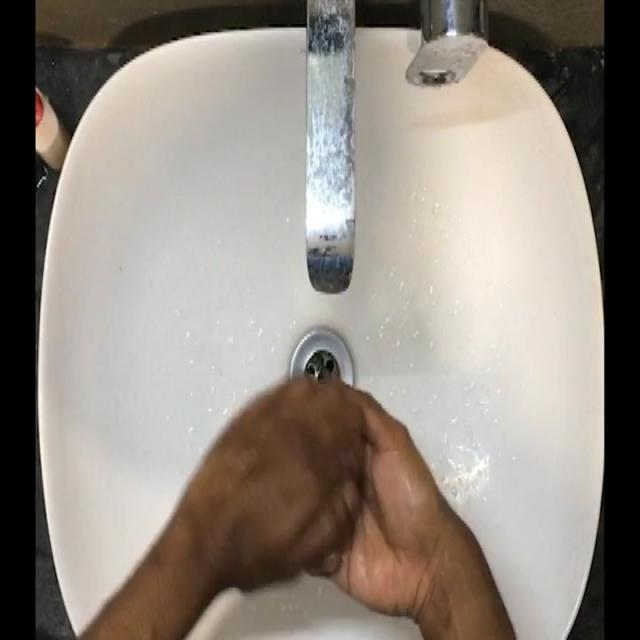step_4: (206, 374, 447, 604)
